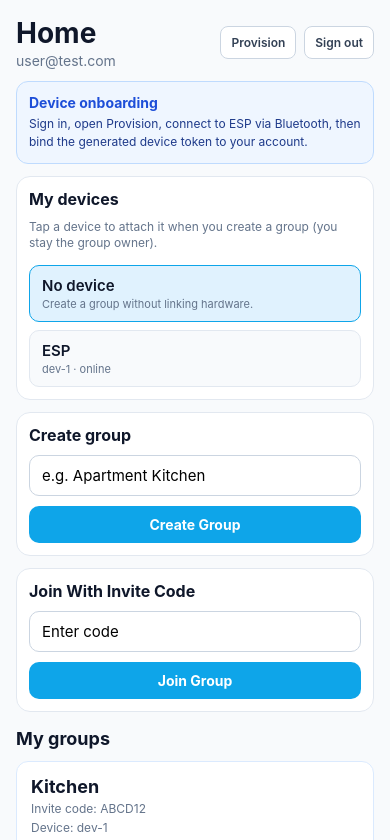
Test: DashboardScreen › validates create group name
The image size is (390, 840).
Expected: the text "Kitchen" is shown, [31,776,99,797]
Click the text "Create Group": (195, 524) [150,516,240,533]
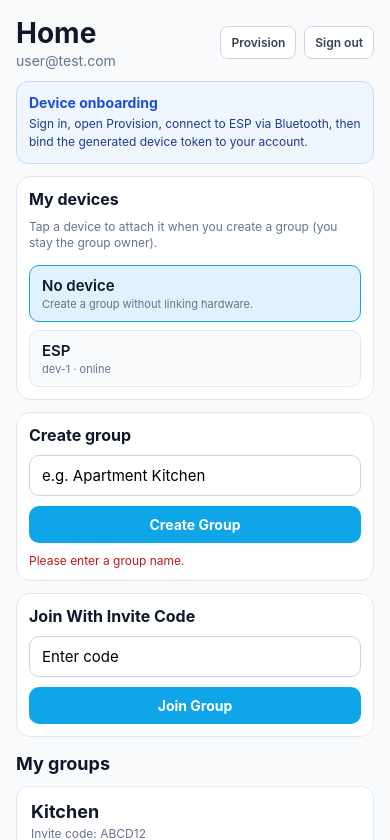
Expected: the text "Please enter a group name." is shown, [29,553,184,568]
